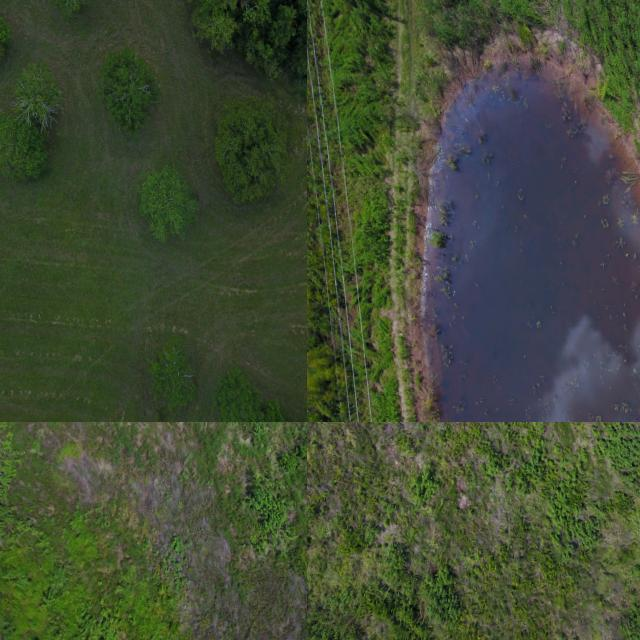fire: (423, 71, 640, 422)
